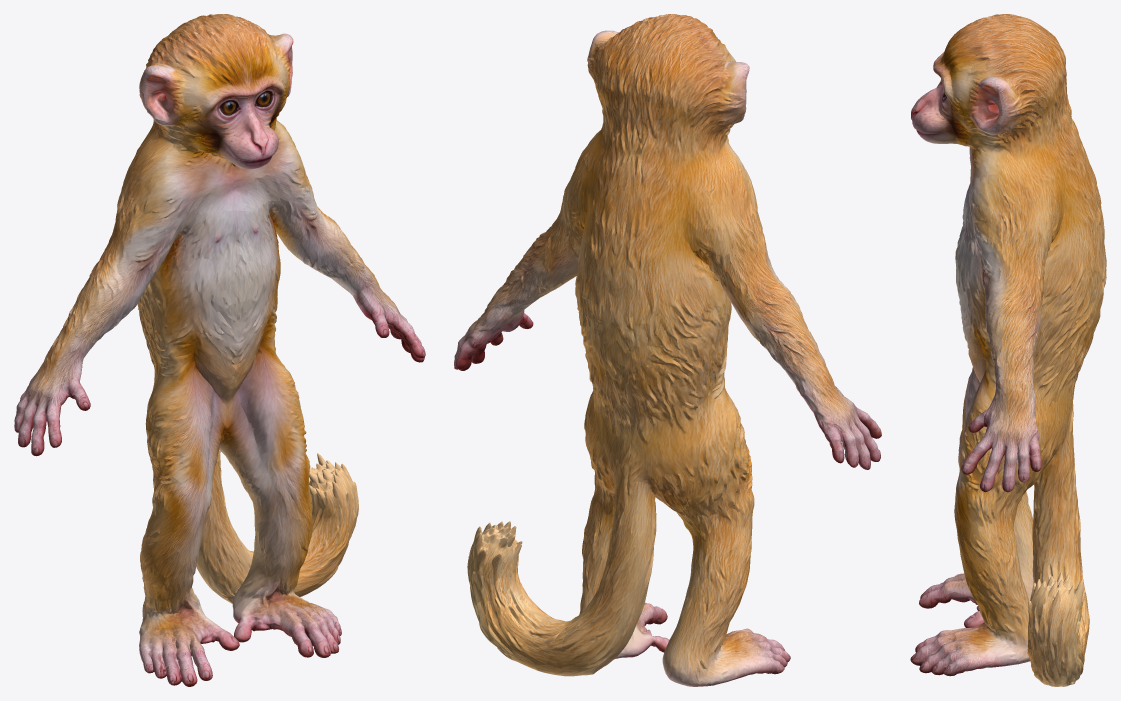
File: Mono.glb
The picture shows the model from 3 angles, left to right: view 1: azimuth 30°, elevation 25°; view 2: azimuth 150°, elevation 25°; view 3: azimuth 270°, elevation 25°; orthographic projection. The views are drawn at different scales.
Visible parts, largest first — view 1: Object_4; view 2: Object_4; view 3: Object_4.
Part boxes in pixels (bbox=[...]): Object_4: bbox=[14, 14, 425, 686]; Object_4: bbox=[454, 14, 881, 686]; Object_4: bbox=[910, 14, 1106, 686].
Bounding box in the file's own units: 1.26 × 1.9 × 0.5493.
1 material, 1 textured.
